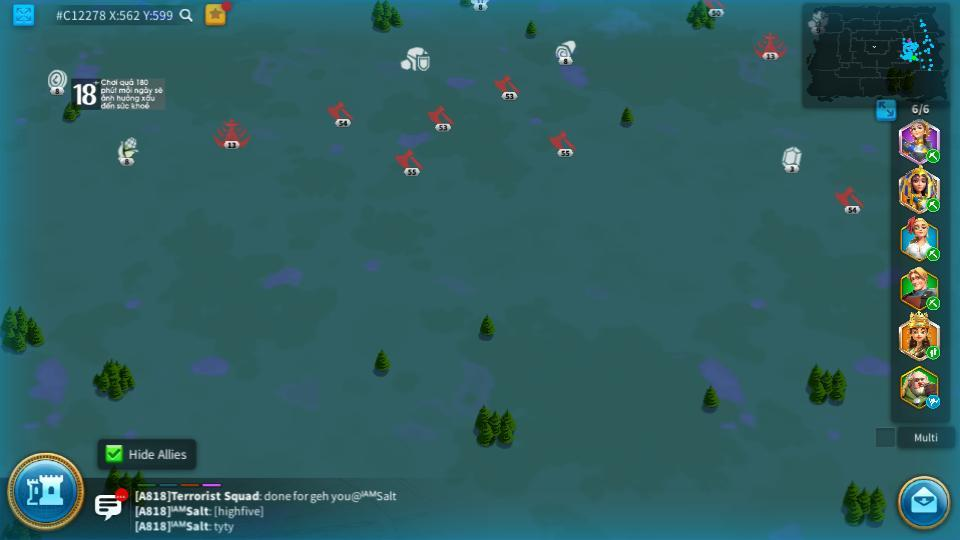gem-z-out: (783, 145, 801, 171)
march_farming: (925, 297, 942, 310), (926, 249, 941, 261)
march_idle: (925, 396, 942, 408)
march_marching: (925, 197, 941, 212), (925, 345, 941, 359), (925, 149, 941, 162)
